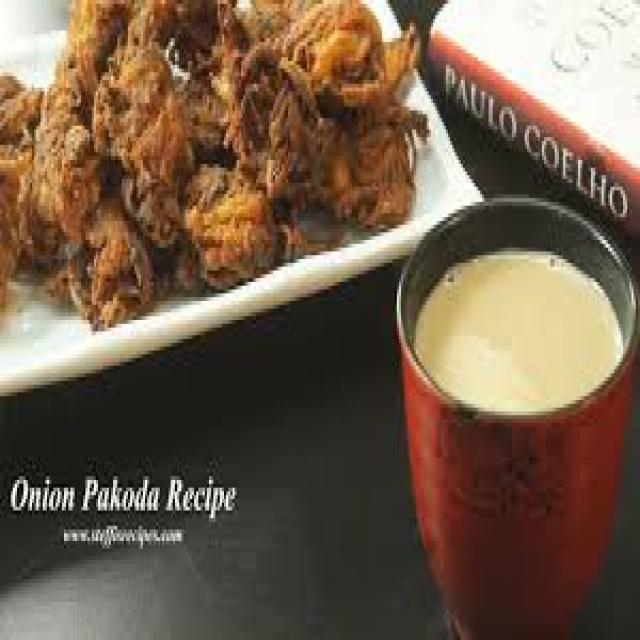BAJI: (1, 0, 429, 323)
